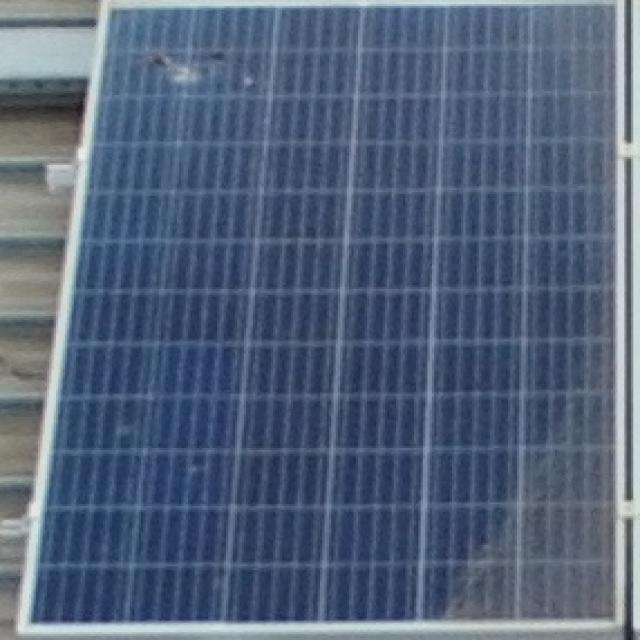Dust: (444, 315, 640, 639)
bird-droppings: (140, 43, 225, 87), (239, 70, 260, 93)
